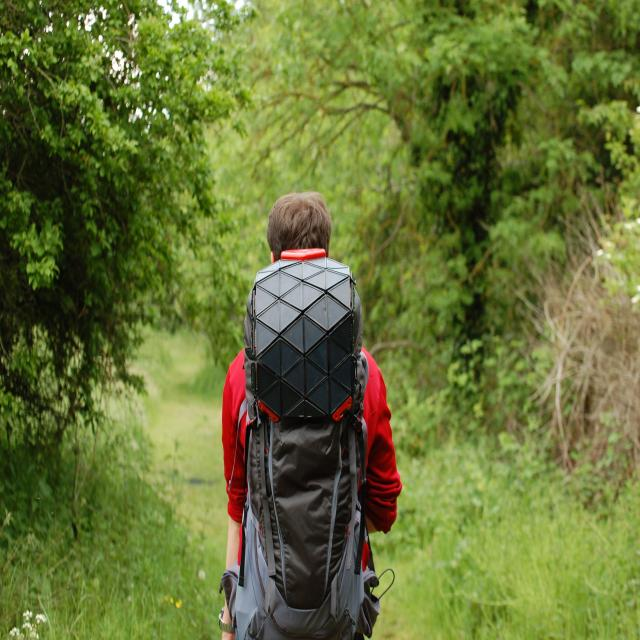backpack: (222, 256, 380, 640)
